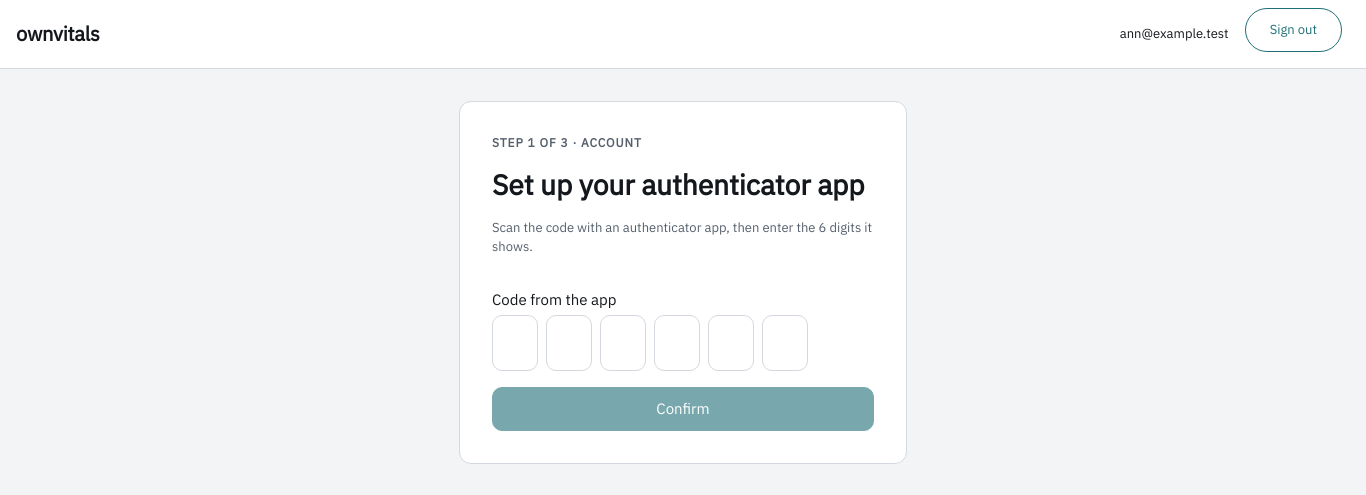
Scenario: signing out › is possible from the enrolment page, so a user on the wrong account can leave
The image size is (1366, 495).
Expected: the heading "Set up your authenticator app" is shown, [492,168,874,202]
Click the button "Sign out": (1293, 30) [1245,8,1342,52]
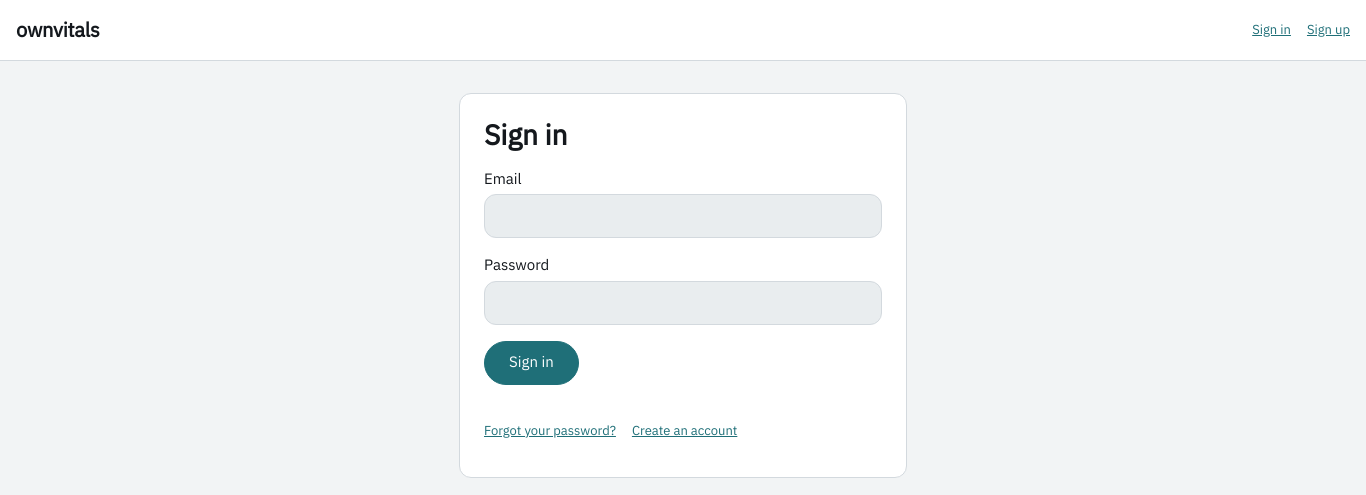
Expected: the heading "Sign in" is shown, [484,116,568,153]
